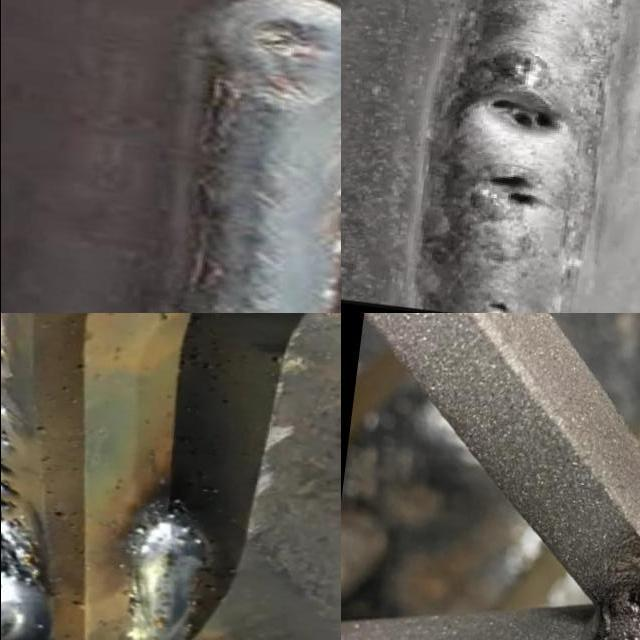defect: (481, 92, 568, 137), (477, 170, 554, 216), (482, 296, 514, 313)
